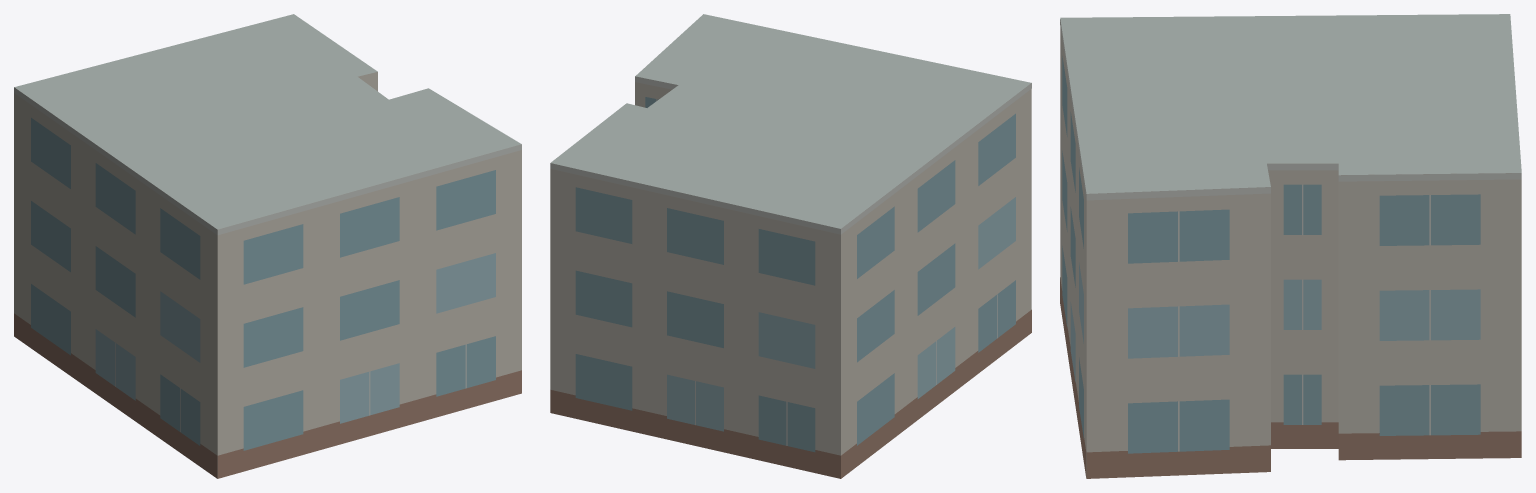
File: survey-upis-32865456.glb
3 renders of one model, left to right at view 1: azimuth 30°, elevation 25°; view 2: azimuth 150°, elevation 25°; view 3: azimuth 270°, elevation 25°, orthographic. The views are drawn at different scales.
Visible parts, largest first — view 1: survey-upis-32865456.tmp; view 2: survey-upis-32865456.tmp; view 3: survey-upis-32865456.tmp.
Boxes of the visible parts, box(x1,y1,x2,y2) form: survey-upis-32865456.tmp: box(14, 14, 521, 478); survey-upis-32865456.tmp: box(550, 14, 1031, 478); survey-upis-32865456.tmp: box(1060, 14, 1521, 478).
Bounding box in the file's own units: 14.36 × 10.6 × 15.57.
